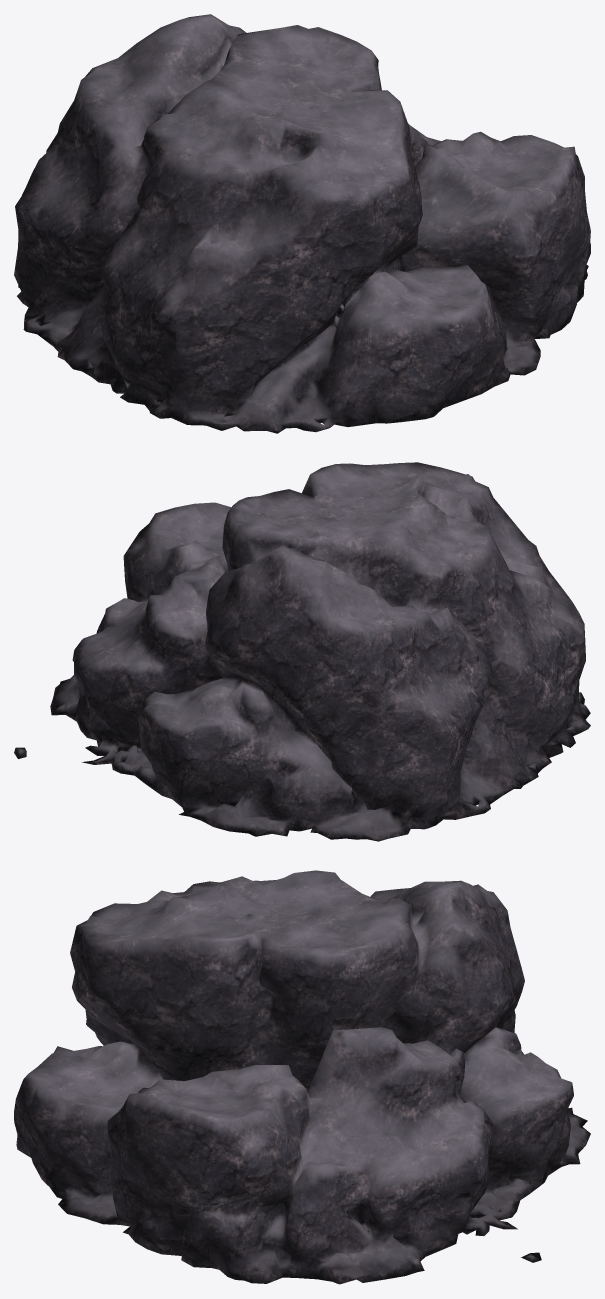
The model's file is Prop_RockBoulder.fbx.
3 renders of one model, top to bottom at view 1: azimuth 30°, elevation 25°; view 2: azimuth 150°, elevation 25°; view 3: azimuth 270°, elevation 25°, orthographic. The views are drawn at different scales.
Parts seen in each view (by area): view 1: Prop_RockBoulder; view 2: Prop_RockBoulder; view 3: Prop_RockBoulder.
Part boxes in pixels (x1,y1,x2,y2): Prop_RockBoulder: [14, 14, 590, 433]; Prop_RockBoulder: [14, 462, 590, 841]; Prop_RockBoulder: [14, 870, 590, 1284].
Bounding box in the file's own units: 6.53 × 3.2 × 6.55.
